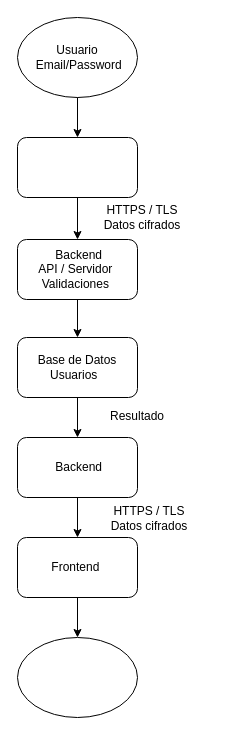
Some shapes in this 232 by 735 pixel diagram are drawn without their labels. The shapes that lost their labels are listed below. From the top down, each one's centre as x and y in pixels, then its label:
At (77,167): "Frontend HTML/CSS/JS".
At (77,677): "Usuario Login exitoso / error".
